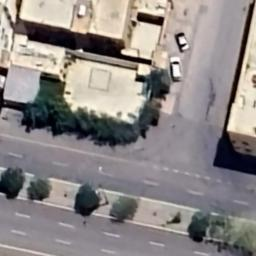sedan: (174, 32, 190, 50)
van: (169, 56, 183, 82)
